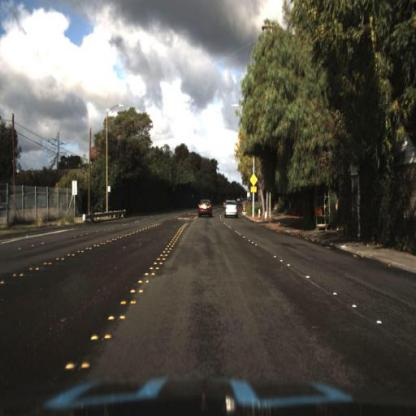car: (196, 197, 214, 219), (223, 200, 241, 221)
